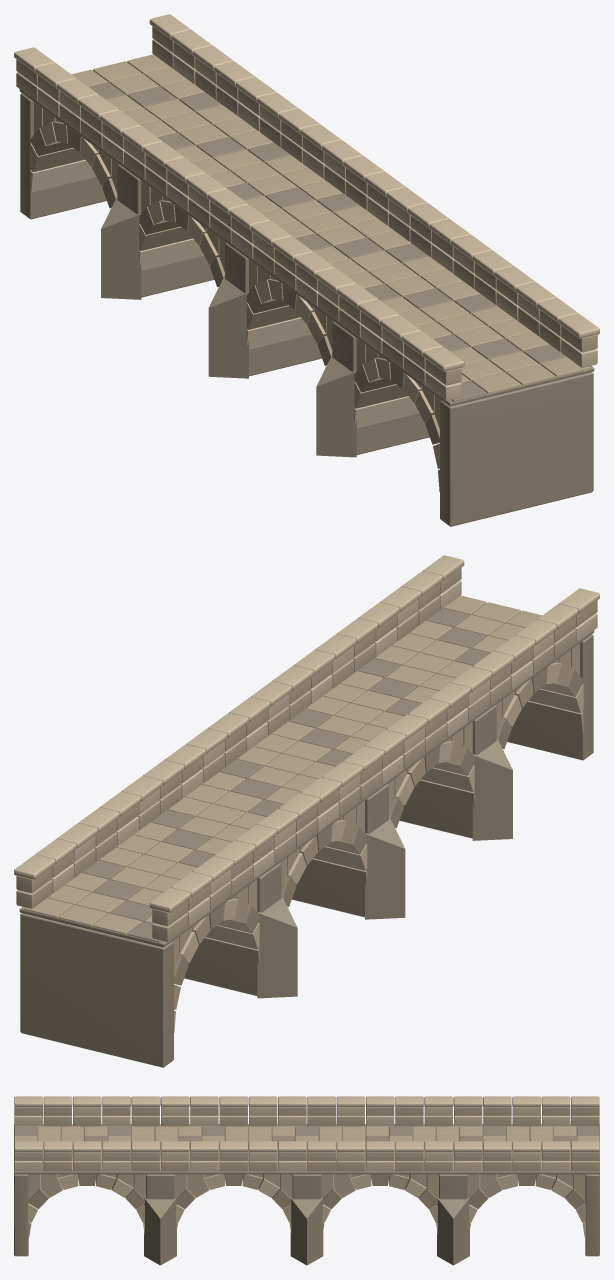
The model's file is bridge_stone.glb.
The picture shows the model from 3 angles, top to bottom: view 1: azimuth 30°, elevation 25°; view 2: azimuth 150°, elevation 25°; view 3: azimuth 270°, elevation 25°; orthographic projection. The views are drawn at different scales.
Parts seen in each view (by area): view 1: bridge_stone; view 2: bridge_stone; view 3: bridge_stone.
Boxes of the visible parts, bbox=[...] form: bridge_stone: bbox=[14, 14, 599, 526]; bridge_stone: bbox=[14, 555, 599, 1067]; bridge_stone: bbox=[14, 1096, 599, 1265].
Size of the model in its own units: 2.64 by 2.09 by 10.
